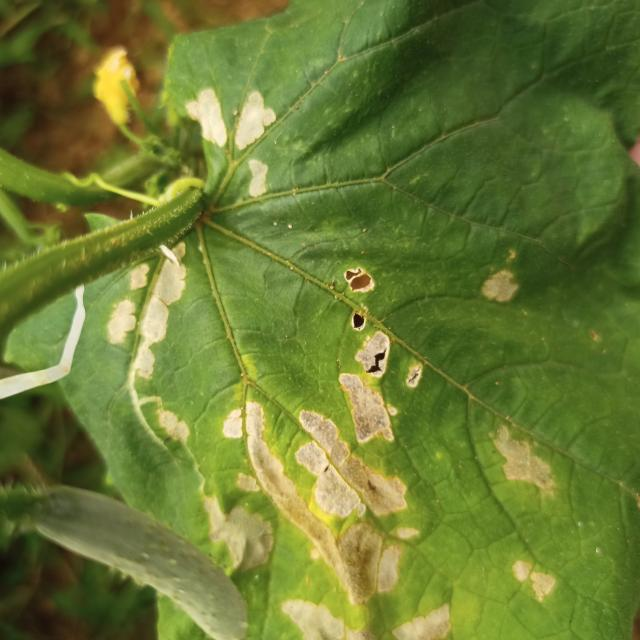disease_cucumber: (110, 240, 558, 640), (182, 86, 270, 202)
